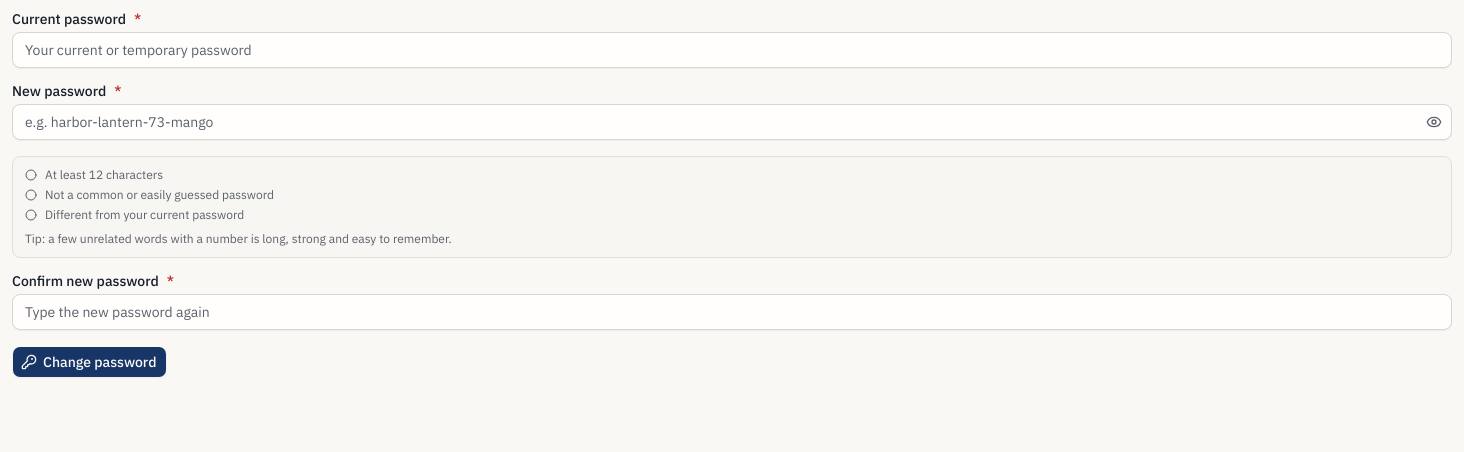
ChangePasswordForm › won't submit when the confirmation doesn't match
In the password field labelled "Current password *": (732, 50) [12,32,1452,68], type "old-temp-pass"
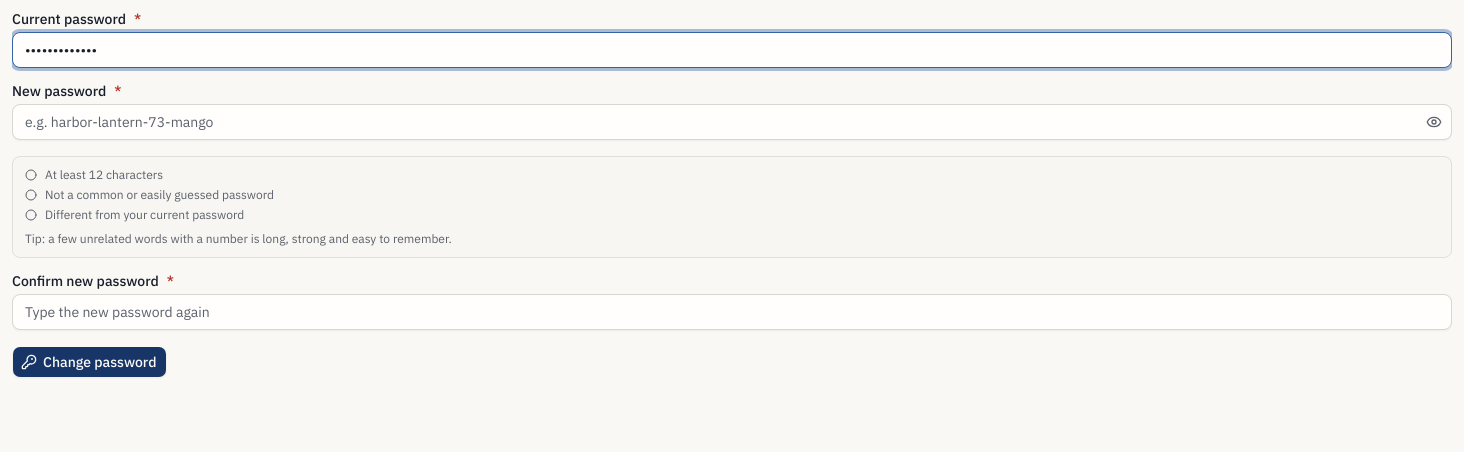
In the password field labelled "New password *": (732, 122) [12,104,1452,140], type "harbor-lantern-73-mango"
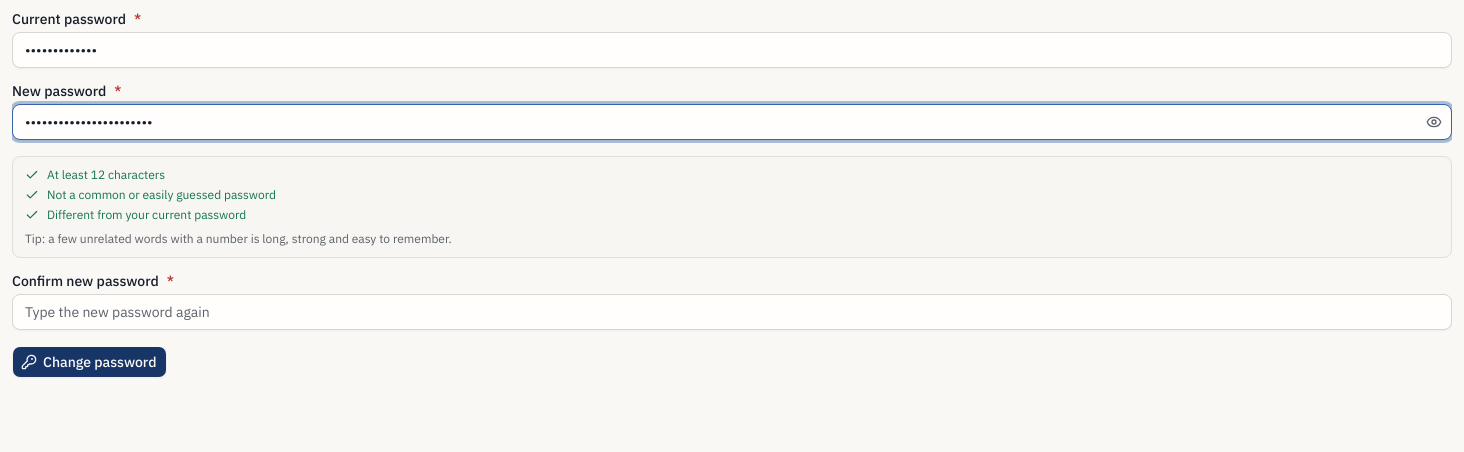
In the password field labelled "Confirm new password *": (732, 312) [12,294,1452,330], type "harbor-lantern-73-mangx"
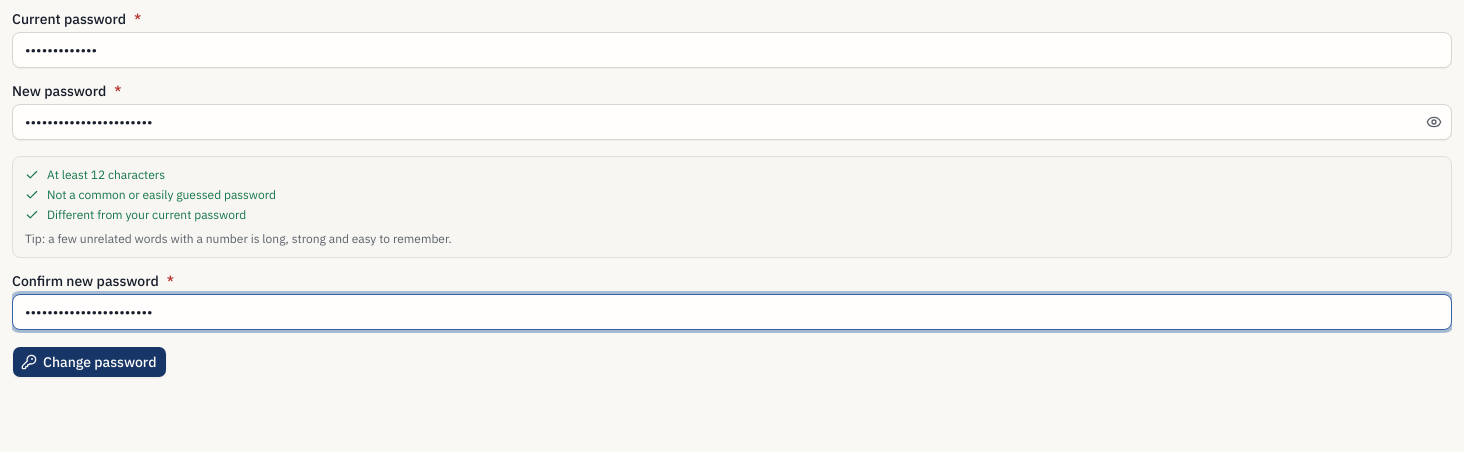
Click the button "Change password": click(90, 362) [12,346,168,378]
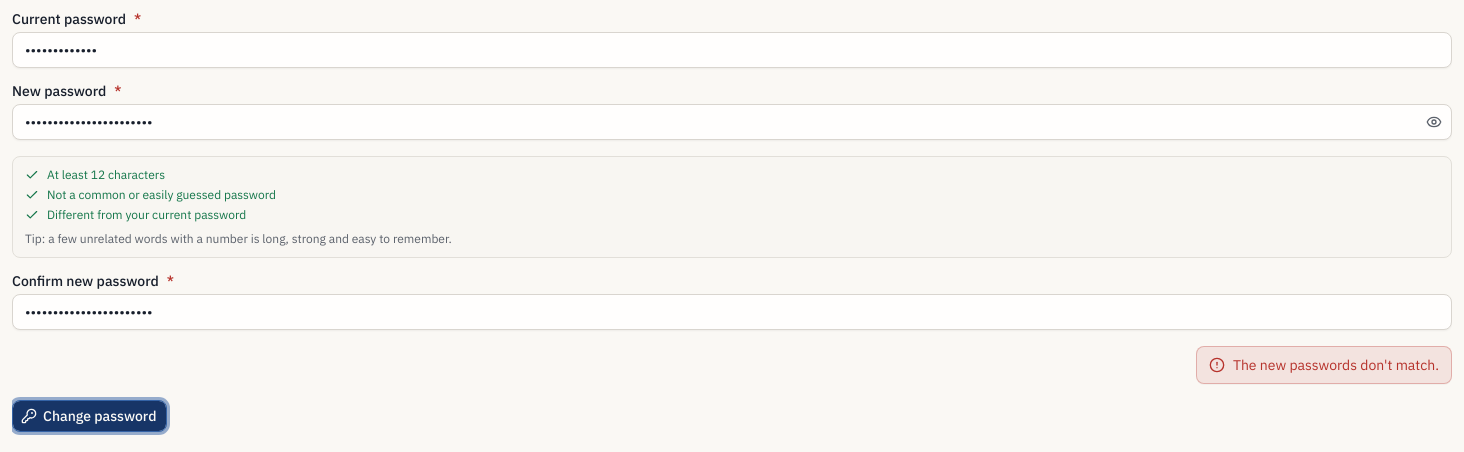
Now the text "The new passwords don't match." is shown, box [1233,355,1439,375]
